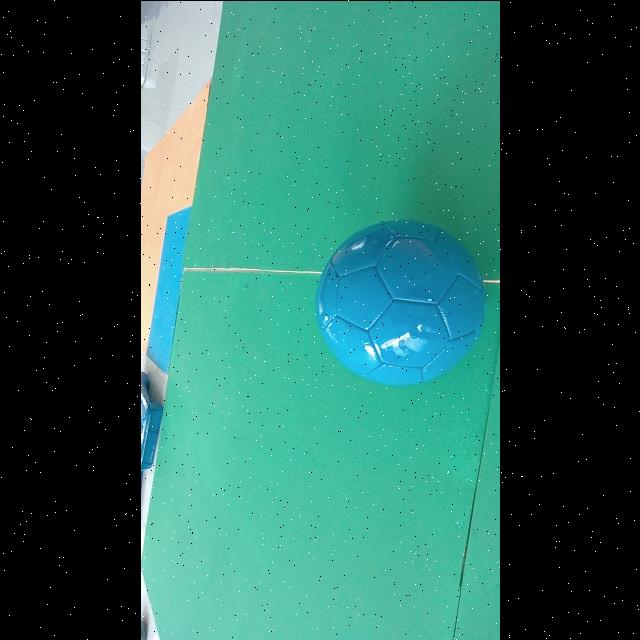B: (315, 219, 485, 384)
